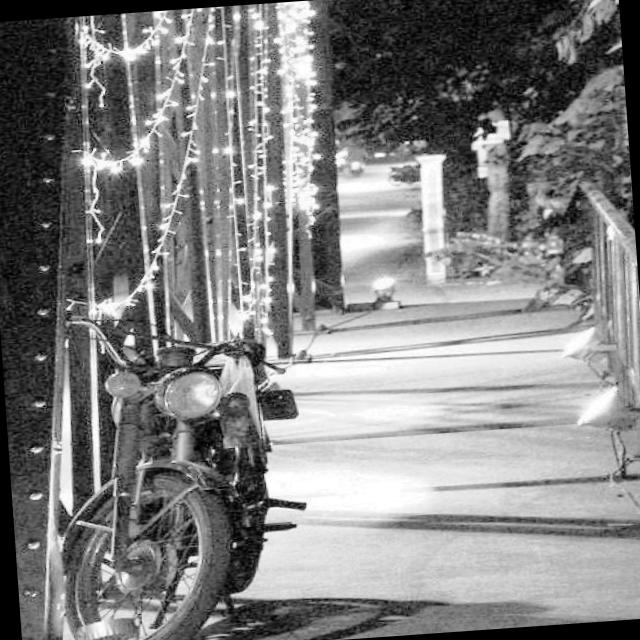Motorcycle: (68, 281, 371, 640)
